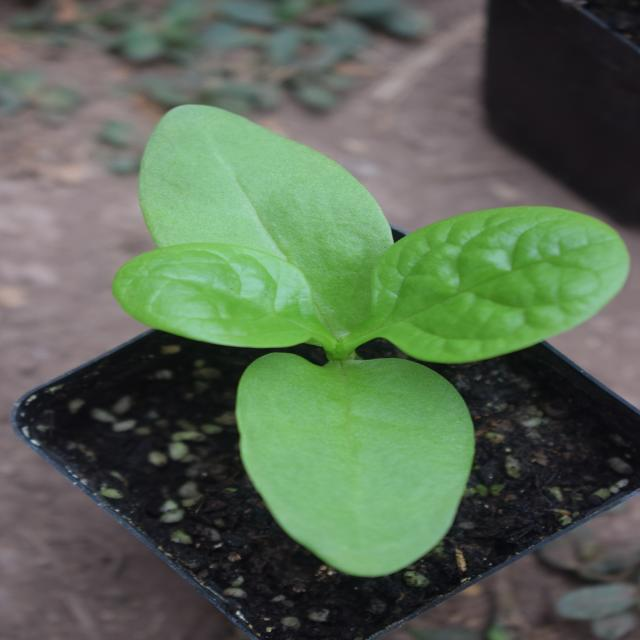Ceylon spinach: (68, 106, 545, 604)
